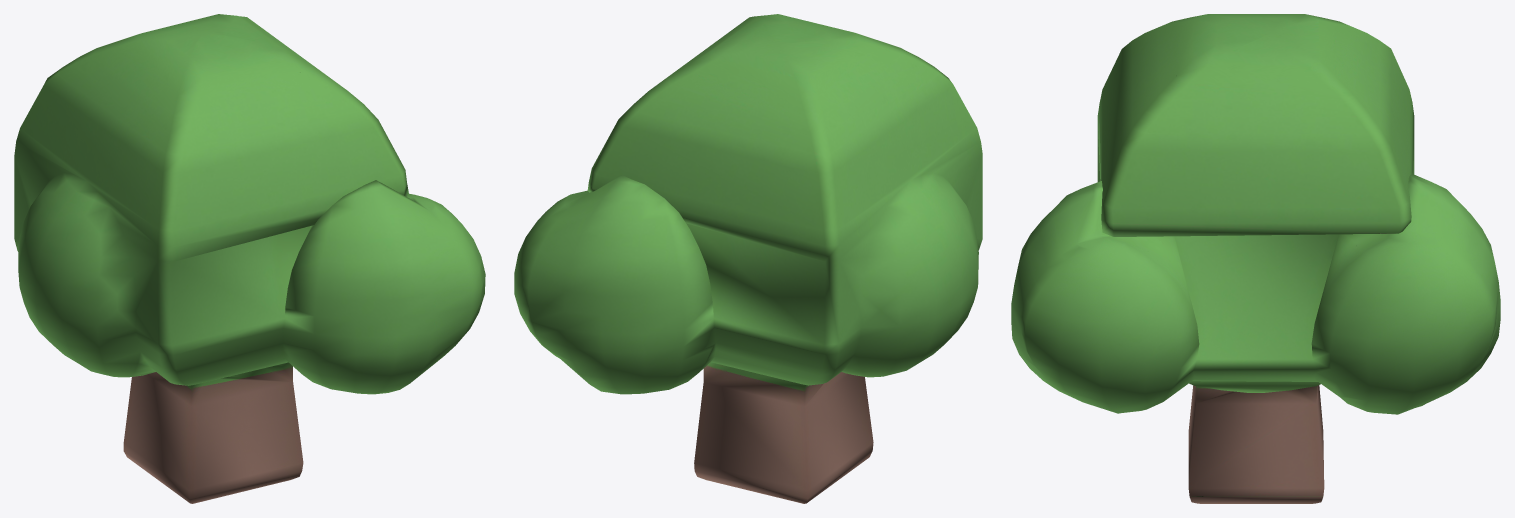
File: tree_v3.glb
3 views of the same model, side by side, from view 1: azimuth 30°, elevation 25°; view 2: azimuth 150°, elevation 25°; view 3: azimuth 270°, elevation 25° (orthographic). The views are drawn at different scales.
Visible parts, largest first — view 1: tripo_node_34ec85d8-a847-42e3-b12b-cce01cb76ff6; view 2: tripo_node_34ec85d8-a847-42e3-b12b-cce01cb76ff6; view 3: tripo_node_34ec85d8-a847-42e3-b12b-cce01cb76ff6.
Part boxes in pixels (bbox=[...]): tripo_node_34ec85d8-a847-42e3-b12b-cce01cb76ff6: bbox=[14, 14, 485, 503]; tripo_node_34ec85d8-a847-42e3-b12b-cce01cb76ff6: bbox=[514, 14, 982, 503]; tripo_node_34ec85d8-a847-42e3-b12b-cce01cb76ff6: bbox=[1011, 14, 1500, 503].
Bounding box in the file's own units: 0.8652 × 0.998 × 0.9863.
Materials: 1 (1 with a texture image).
